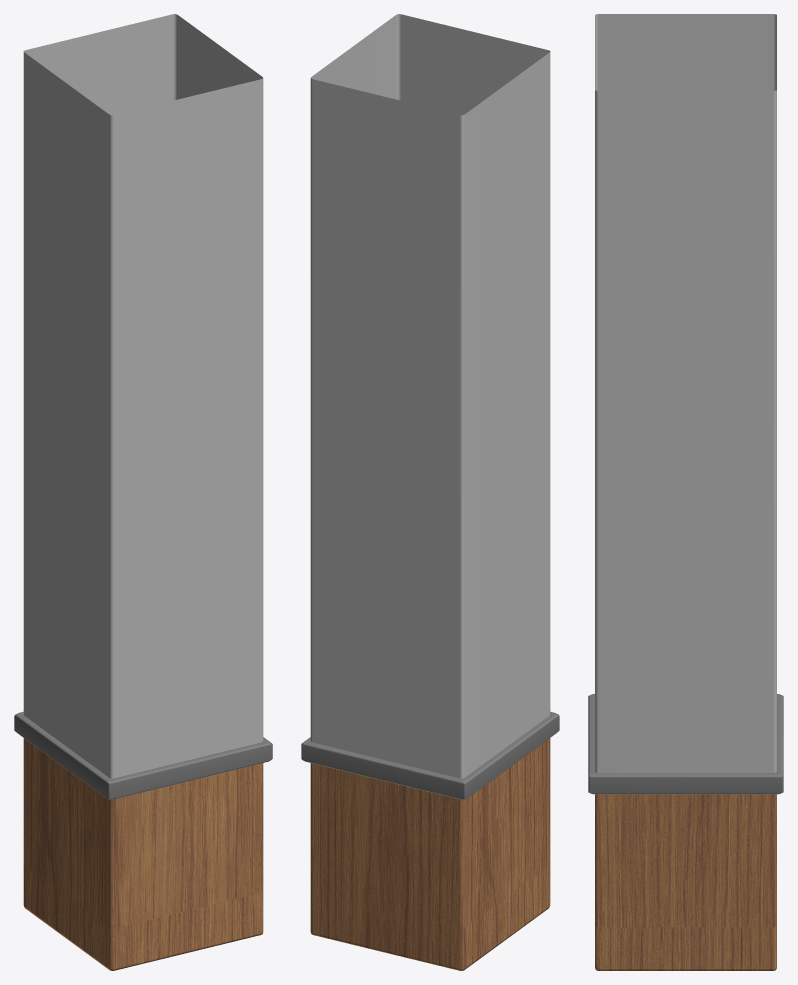
File: SM_pillar_01.fbx
3 renders of one model, left to right at view 1: azimuth 30°, elevation 25°; view 2: azimuth 150°, elevation 25°; view 3: azimuth 270°, elevation 25°, orthographic. The views are drawn at different scales.
Parts seen in each view (by area): view 1: pillar; view 2: pillar; view 3: pillar.
Part boxes in pixels (x1,y1,x2,y2): pillar: (14, 14, 272, 970); pillar: (301, 14, 559, 970); pillar: (588, 14, 783, 970).
Bounding box in the file's own units: 31.69 × 157 × 31.69.
